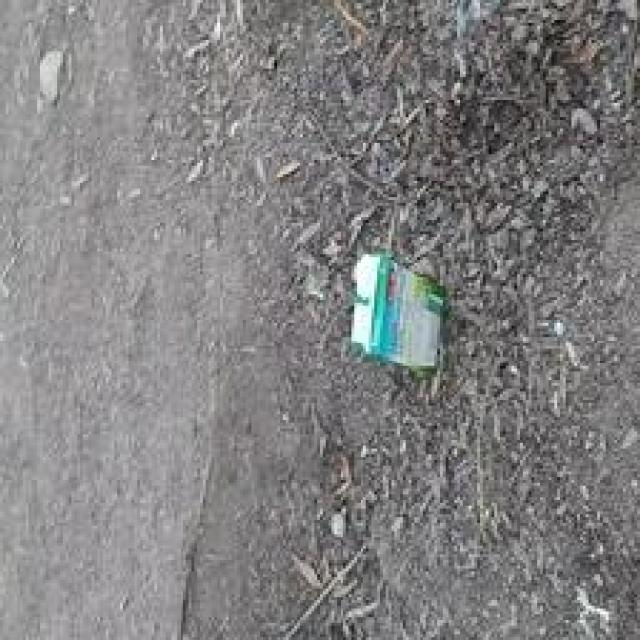PaperCardboard: (349, 249, 449, 381)
